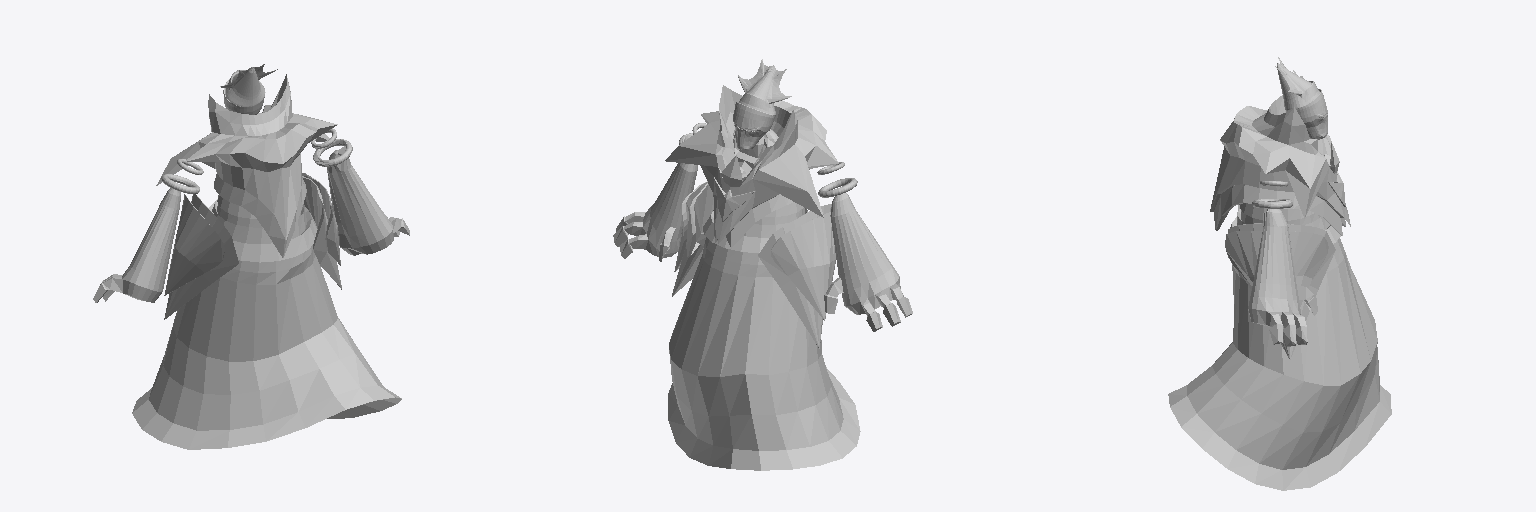
File: RATH_IDLE_24FPS.0049.obj
The picture shows the model from 3 angles: view 1: azimuth 30°, elevation 25°; view 2: azimuth 150°, elevation 25°; view 3: azimuth 270°, elevation 25°; orthographic projection.
Visible parts, largest first — view 1: pasted__pasted__pTorus3; view 2: pasted__pasted__pTorus3; view 3: pasted__pasted__pTorus3.
Part boxes in pixels (x1,y1,x2,y2): pasted__pasted__pTorus3: (93, 64, 409, 449); pasted__pasted__pTorus3: (613, 59, 912, 470); pasted__pasted__pTorus3: (1168, 57, 1391, 490).
Size of the model in its own units: 154 by 186 by 97.21.